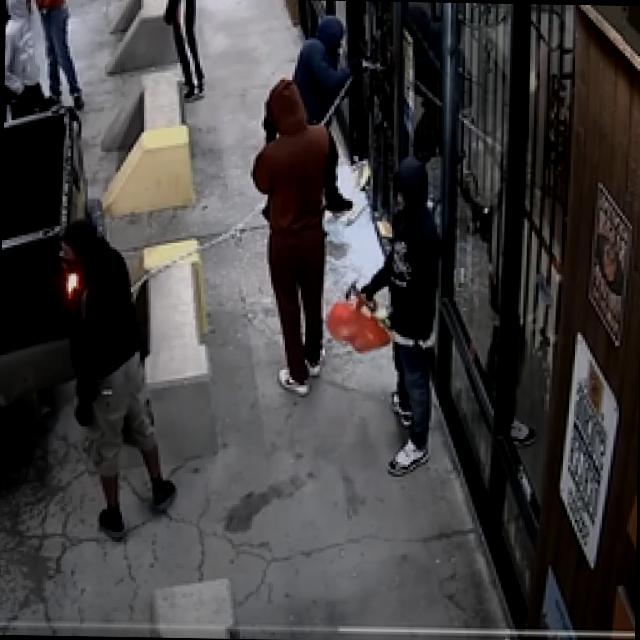person: (51, 218, 179, 538), (354, 153, 446, 474), (246, 76, 337, 395), (290, 12, 366, 210), (28, 0, 85, 108), (6, 0, 48, 120), (160, 0, 205, 100)
